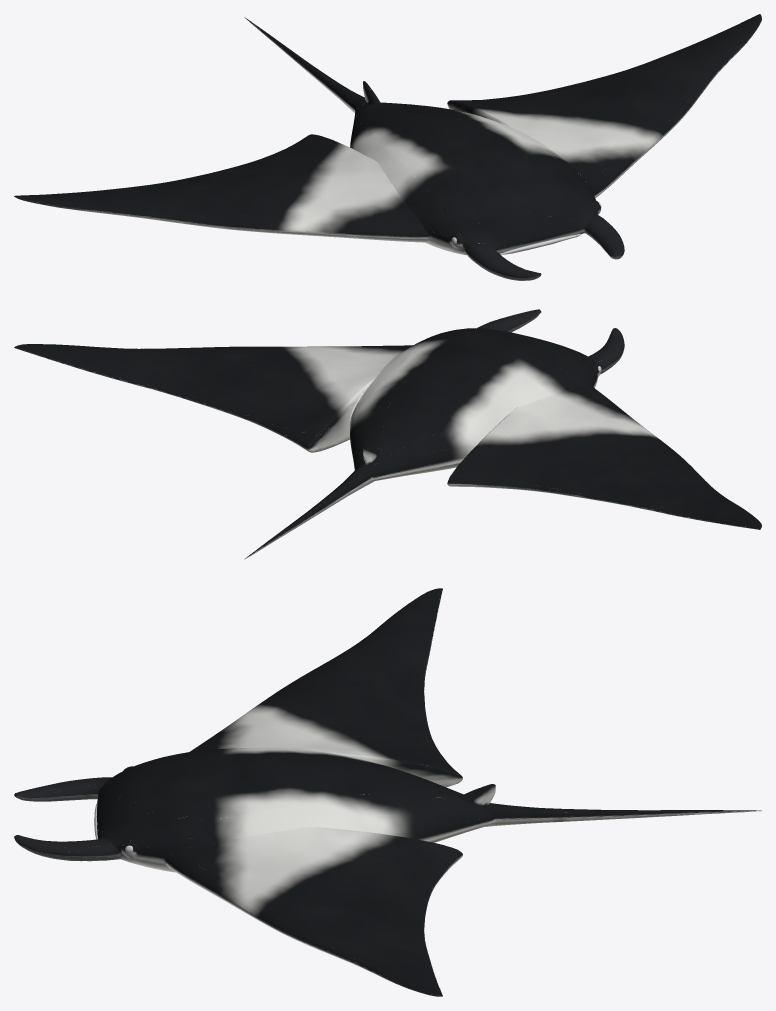
File: GiantManta.fbx
3 views of the same model, one above another, from view 1: azimuth 30°, elevation 25°; view 2: azimuth 150°, elevation 25°; view 3: azimuth 270°, elevation 25° (orthographic). The views are drawn at different scales.
Parts seen in each view (by area): view 1: Continuous anatomical skin | manta_ray; view 2: Continuous anatomical skin | manta_ray; view 3: Continuous anatomical skin | manta_ray.
Part boxes in pixels (x1=…): Continuous anatomical skin | manta_ray: x1=14, y1=14, x2=761, y2=280; Continuous anatomical skin | manta_ray: x1=14, y1=309, x2=761, y2=559; Continuous anatomical skin | manta_ray: x1=14, y1=588, x2=761, y2=996.
Bounding box in the file's own units: 452 × 43.7 × 350.
